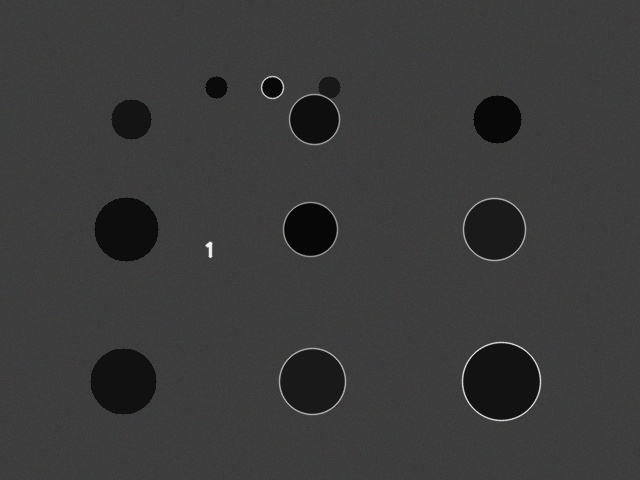hole: (462, 342, 540, 420), (90, 348, 156, 414), (279, 348, 345, 414), (94, 197, 158, 261), (463, 198, 525, 260), (283, 202, 337, 256), (289, 94, 339, 144), (473, 95, 521, 143), (111, 99, 151, 139), (205, 76, 227, 98), (261, 76, 283, 98), (318, 76, 340, 98)
